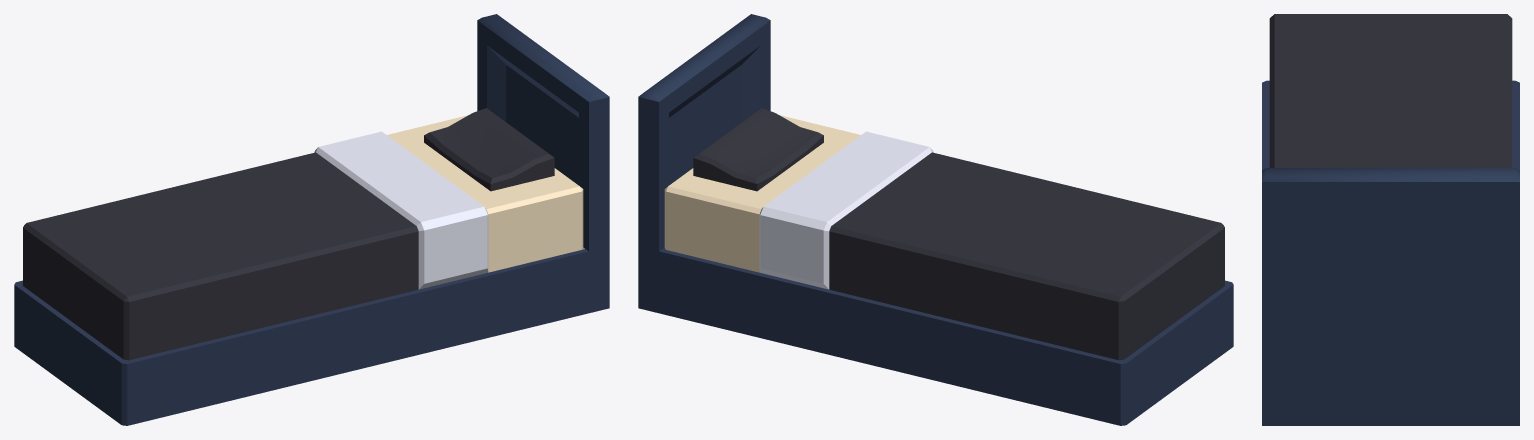
The model's file is BED.FBX.
3 renders of one model, left to right at view 1: azimuth 30°, elevation 25°; view 2: azimuth 150°, elevation 25°; view 3: azimuth 270°, elevation 25°, orthographic. The views are drawn at different scales.
Visible parts, largest first — view 1: bed; view 2: bed; view 3: bed.
Part boxes in pixels (x1,y1,x2,y2): bed: (14, 14, 609, 425); bed: (638, 14, 1233, 425); bed: (1262, 14, 1519, 425).
Size of the model in its own units: 155 by 65.58 by 61.84.
